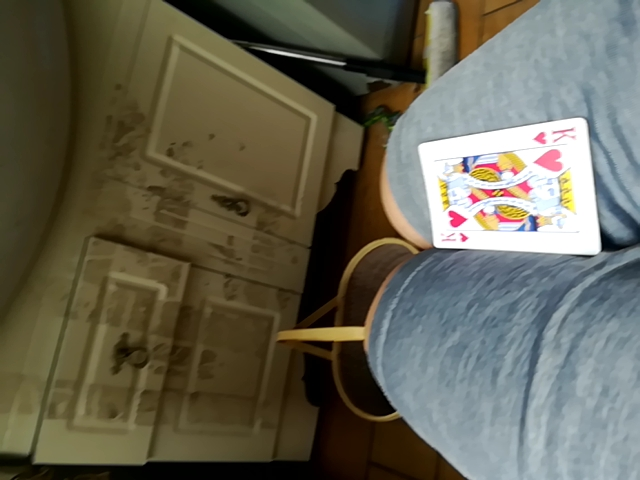hx k: (411, 120, 604, 258)
